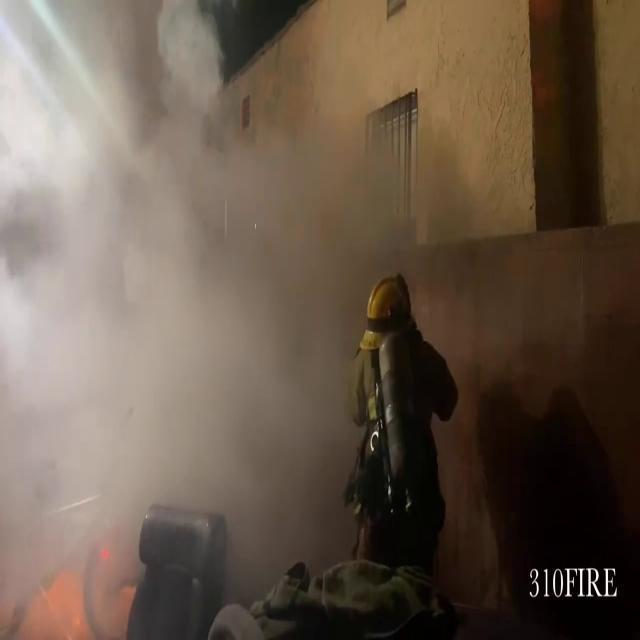Smoke: (1, 1, 485, 585)
